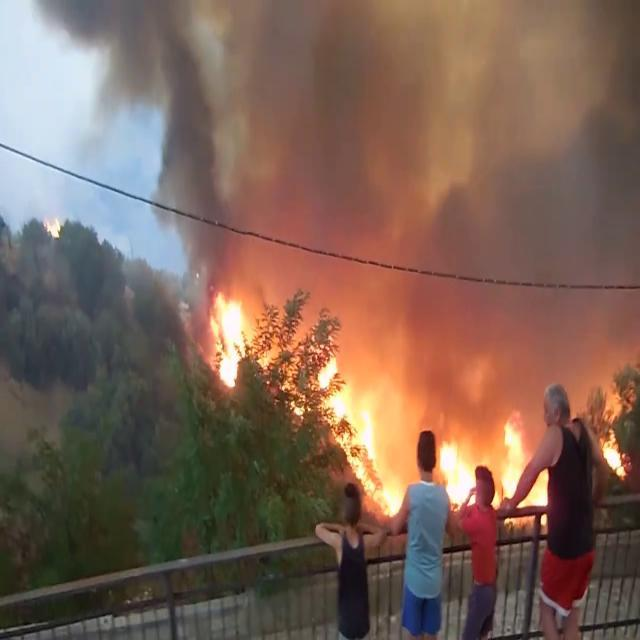Fire: (308, 345, 406, 513), (434, 416, 542, 517), (206, 286, 258, 388), (597, 423, 631, 481)
Smoke: (82, 1, 640, 327)
